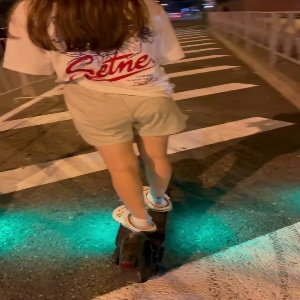human on a scooter: (1, 1, 190, 284)
